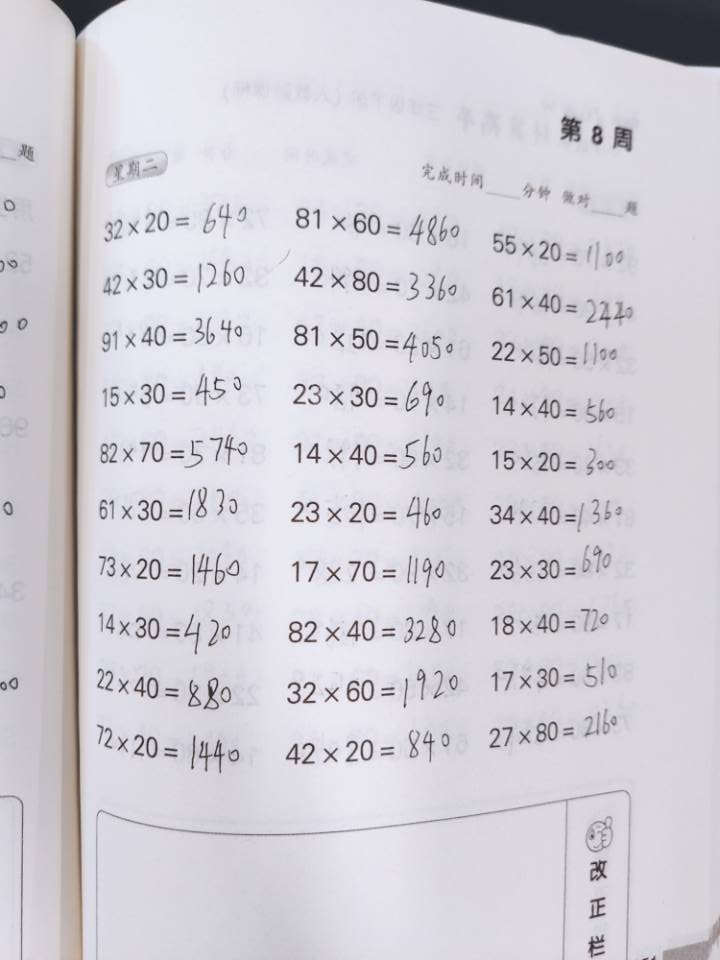equation: (233, 332, 273, 575), (456, 337, 496, 580), (364, 337, 404, 580), (364, 84, 404, 327), (544, 340, 584, 583), (452, 597, 492, 840), (411, 592, 451, 835), (362, 600, 402, 843), (192, 593, 232, 836), (539, 604, 579, 847), (408, 343, 448, 585), (449, 83, 489, 325), (528, 99, 568, 341), (280, 75, 320, 317), (165, 79, 205, 321), (242, 75, 282, 317), (274, 613, 317, 835), (237, 620, 280, 841), (145, 333, 184, 576), (320, 332, 359, 575), (188, 328, 227, 571), (487, 92, 526, 335), (493, 605, 532, 848), (277, 331, 316, 573), (500, 343, 539, 585), (409, 83, 448, 325), (320, 79, 359, 321), (209, 71, 248, 313), (146, 611, 188, 832), (320, 616, 362, 837)
